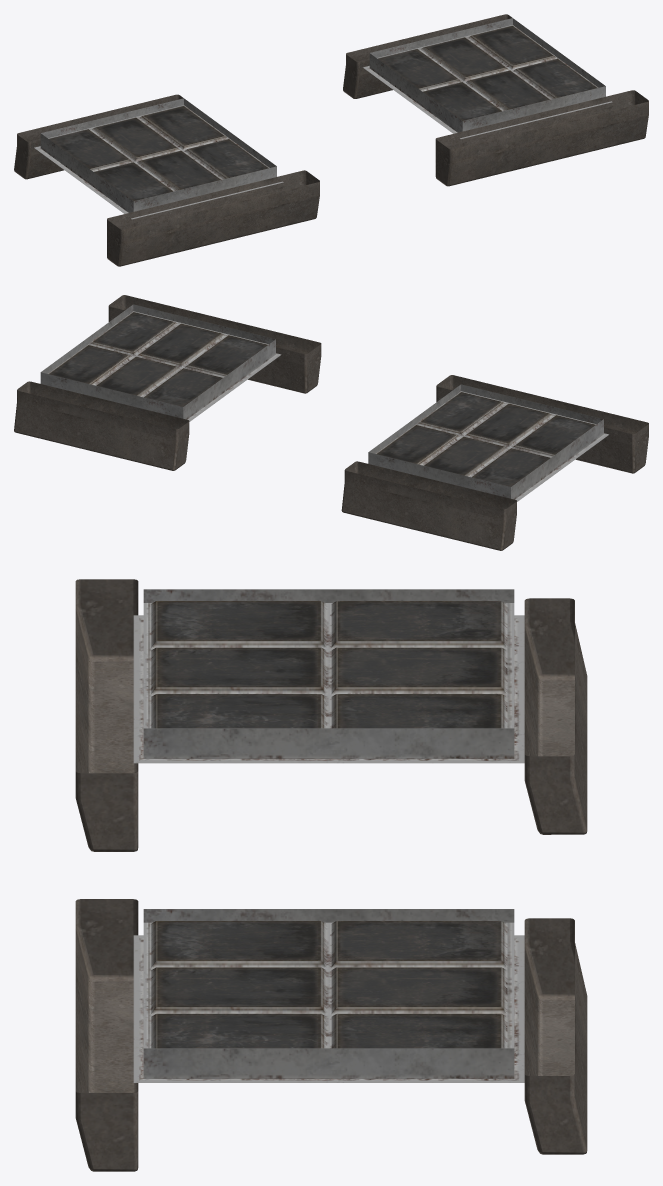
File: window_centered_double_03.gltf
3 views of the same model, one above another, from view 1: azimuth 30°, elevation 25°; view 2: azimuth 150°, elevation 25°; view 3: azimuth 270°, elevation 25° (orthographic). The views are drawn at different scales.
Visible parts, largest first — view 1: window_centered_double_03; view 2: window_centered_double_03; view 3: window_centered_double_03.
Boxes of the visible parts, bbox=[...] form: window_centered_double_03: bbox=[14, 14, 648, 266]; window_centered_double_03: bbox=[14, 295, 648, 550]; window_centered_double_03: bbox=[75, 579, 587, 1171].
Bounding box in the file's own units: 2.41 × 0.2167 × 1.01.
Materials: 2 (2 with a texture image).
